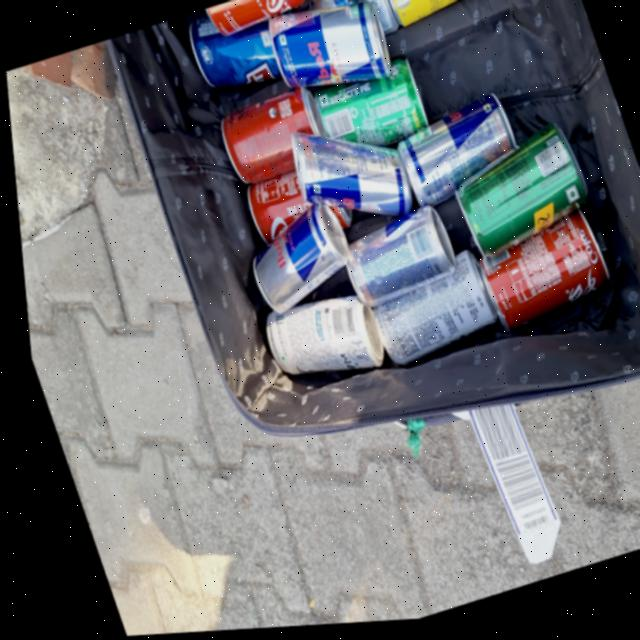Coca Cola: (464, 217, 619, 352), (237, 168, 319, 251), (201, 0, 312, 32)
Coca Cola Zero: (214, 92, 324, 190)
Redbul: (285, 117, 406, 238), (263, 0, 394, 110), (387, 103, 519, 210), (235, 207, 352, 305), (335, 215, 452, 304)
Redbull Yellow Edition: (371, 0, 515, 38), (300, 0, 340, 8)
Schweppes: (450, 135, 588, 255), (332, 0, 454, 10)
Sprite: (305, 65, 424, 157)
Thums Up: (173, 0, 282, 107)
White Monster: (352, 260, 501, 379), (251, 297, 377, 406)
